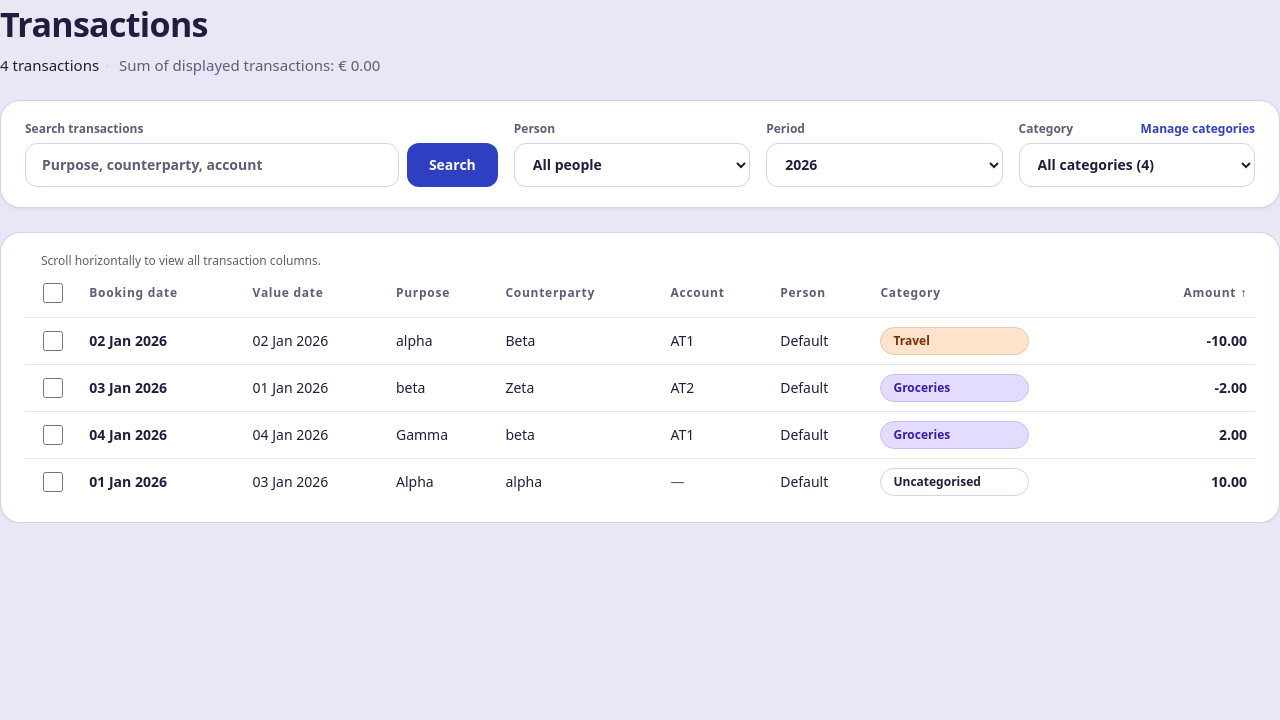
transaction sorting › keeps row selection attached to the transaction after sorting
Step 1. Click the checkbox with test id "row-select" in the row of "-10.00" → (53, 341), box [43, 331, 63, 351]
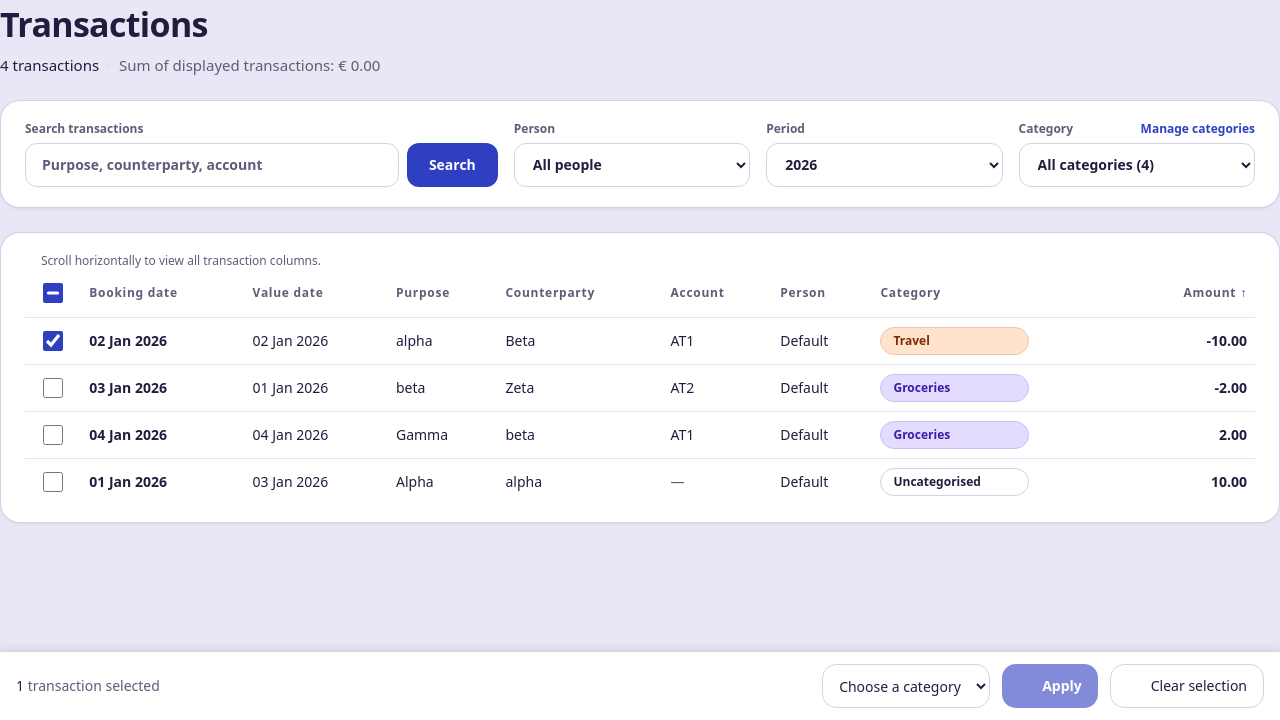
expect the element with test id "bulk-assignment-bar" shows "1 transaction selected": met, box [0, 651, 1279, 719]
